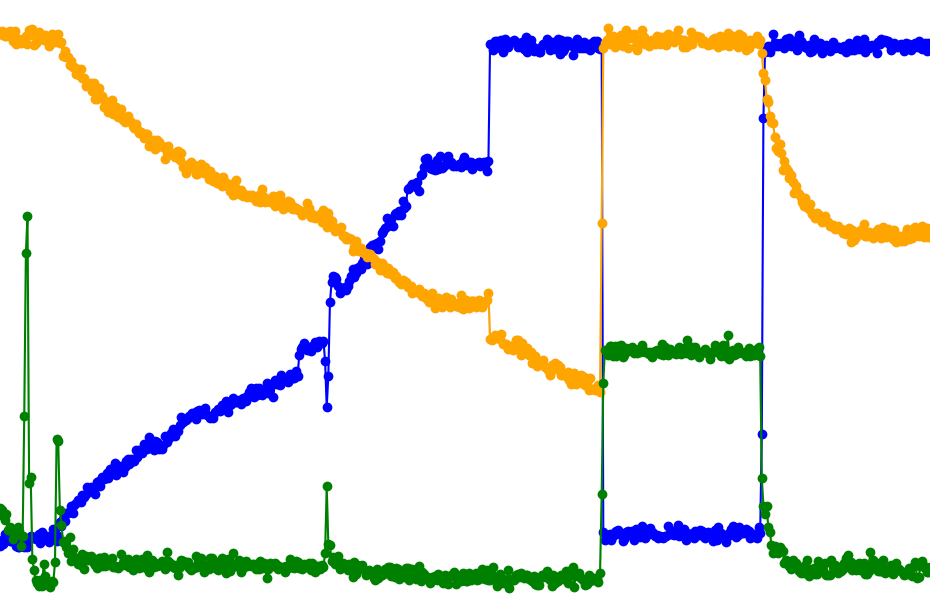CO2 Problem: (310, 0, 737, 616), (737, 0, 930, 616), (155, 0, 310, 616), (38, 0, 155, 616)
Condensation (CO2): (38, 0, 310, 616), (737, 0, 930, 616), (776, 0, 930, 616), (310, 0, 388, 616), (504, 0, 582, 616)
Condensation (O2): (776, 0, 930, 616), (621, 0, 737, 616), (310, 0, 388, 616), (582, 0, 621, 616), (737, 0, 776, 616)
High CO2: (349, 0, 504, 616), (621, 0, 737, 616)
High O2: (38, 0, 310, 616), (310, 0, 504, 616), (155, 0, 310, 616), (776, 0, 930, 616), (38, 0, 155, 616)
Low CO2: (310, 0, 737, 616), (310, 0, 621, 616), (310, 0, 504, 616), (737, 0, 930, 616), (155, 0, 310, 616), (38, 0, 155, 616), (621, 0, 737, 616), (582, 0, 621, 616), (737, 0, 776, 616)
Low O2: (310, 0, 621, 616), (310, 0, 388, 616)
Normal: (0, 0, 930, 616), (310, 0, 737, 616), (310, 0, 621, 616), (310, 0, 504, 616), (737, 0, 930, 616), (155, 0, 310, 616), (776, 0, 930, 616), (38, 0, 155, 616), (155, 0, 271, 616), (621, 0, 737, 616), (38, 0, 116, 616), (504, 0, 582, 616), (0, 0, 38, 616)
O2 Problem: (310, 0, 737, 616), (310, 0, 621, 616), (737, 0, 930, 616), (155, 0, 310, 616), (776, 0, 930, 616), (621, 0, 737, 616)
